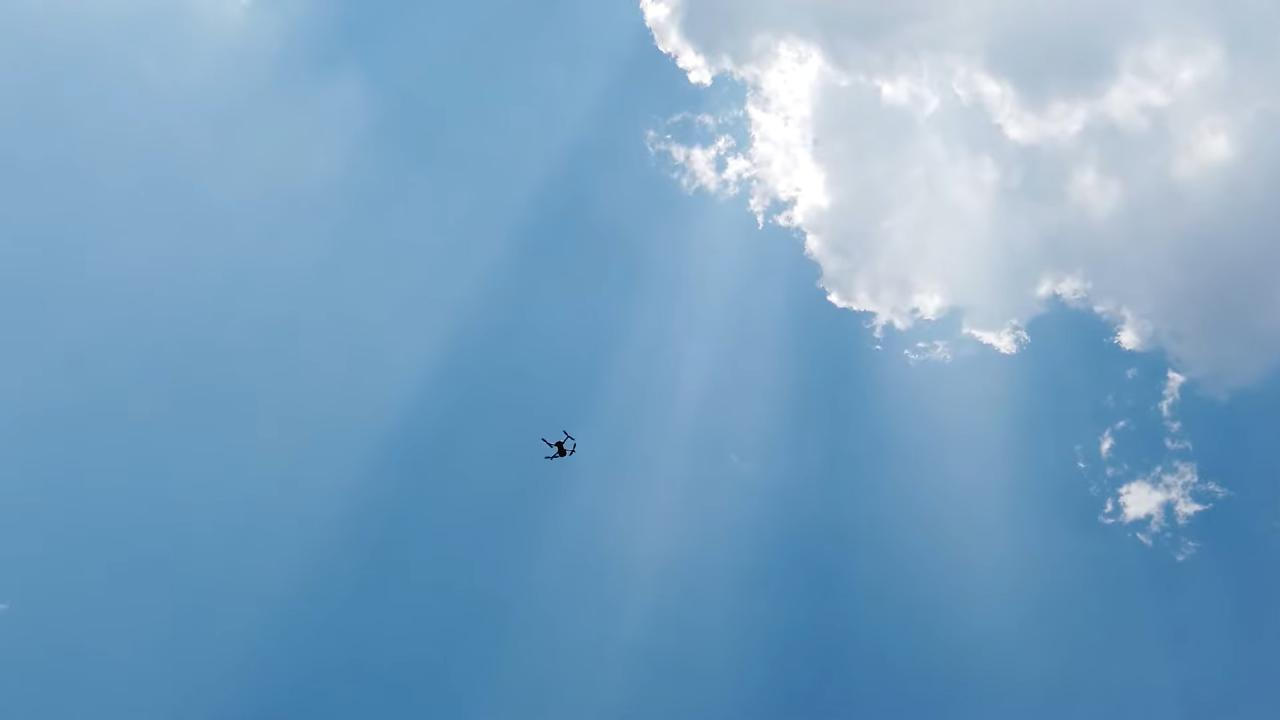Drone: (532, 422, 587, 473)
